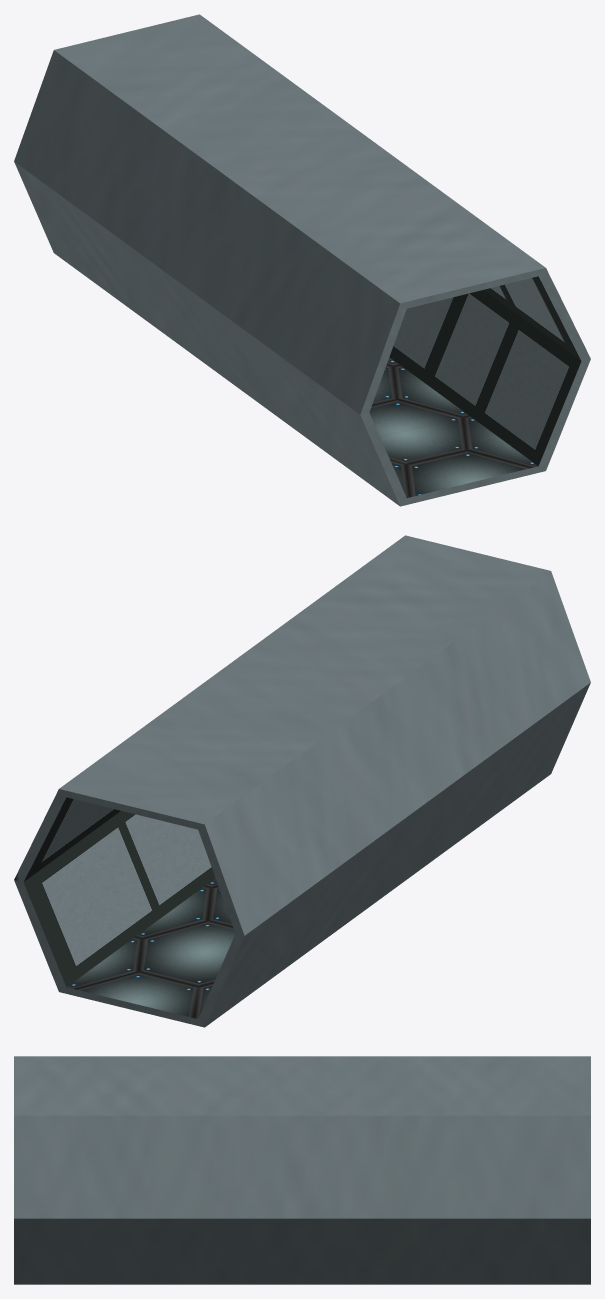
The model's file is hallway.fbx.
3 views of the same model, one above another, from view 1: azimuth 30°, elevation 25°; view 2: azimuth 150°, elevation 25°; view 3: azimuth 270°, elevation 25° (orthographic). The views are drawn at different scales.
Visible parts, largest first — view 1: polySurface2; view 2: polySurface2; view 3: polySurface2.
Boxes of the visible parts, x1,y1,x2,y2 form: polySurface2: [14, 14, 590, 506]; polySurface2: [14, 535, 590, 1027]; polySurface2: [14, 1056, 590, 1284].
Size of the model in its own units: 47.89 by 40.31 by 125.
1 material, 1 textured.
